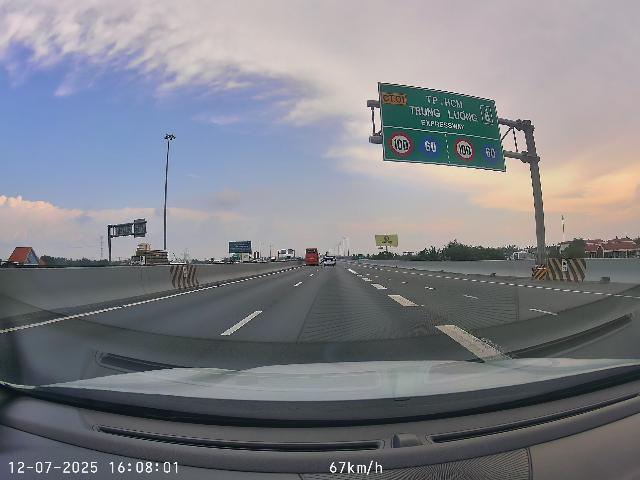127-toc-do-toi-da-100: (388, 132, 414, 157), (454, 138, 475, 162)
306-toc-do-toi-thieu-60: (419, 135, 442, 159), (482, 143, 499, 164)
437-bat-dau-duong-cao-toc: (480, 104, 494, 125)
